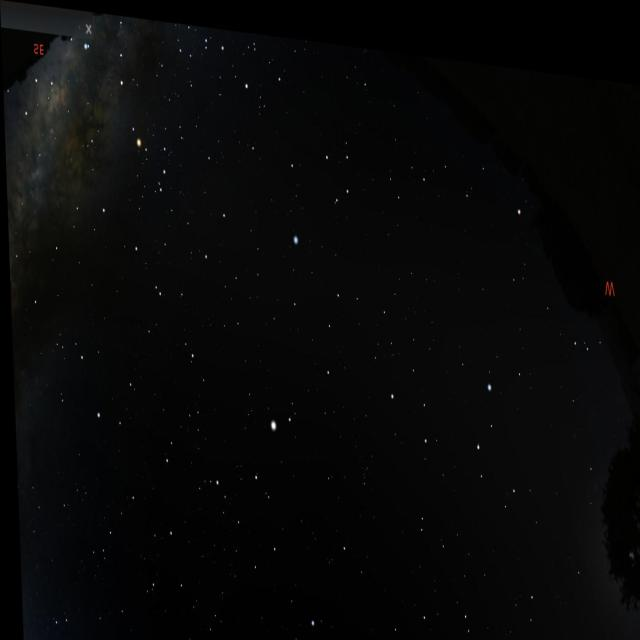bootes: (214, 394, 293, 598)
leo: (379, 341, 521, 504)
lyra: (46, 601, 94, 640)
scorpius: (78, 12, 182, 210)
